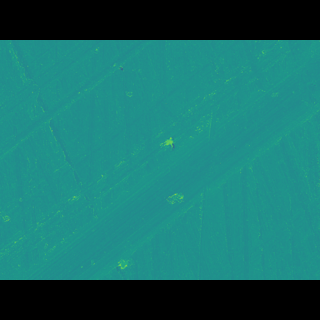Loch: (16, 71, 320, 250), (0, 68, 144, 159)
